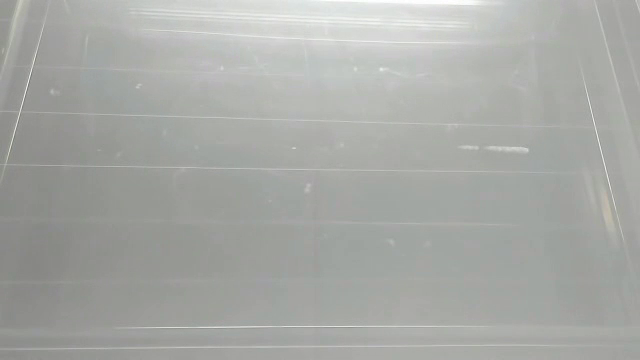alpha: (451, 140, 535, 157)
